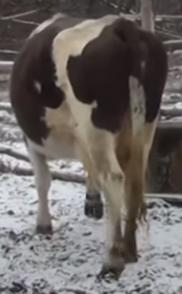cow: (10, 16, 170, 281)
